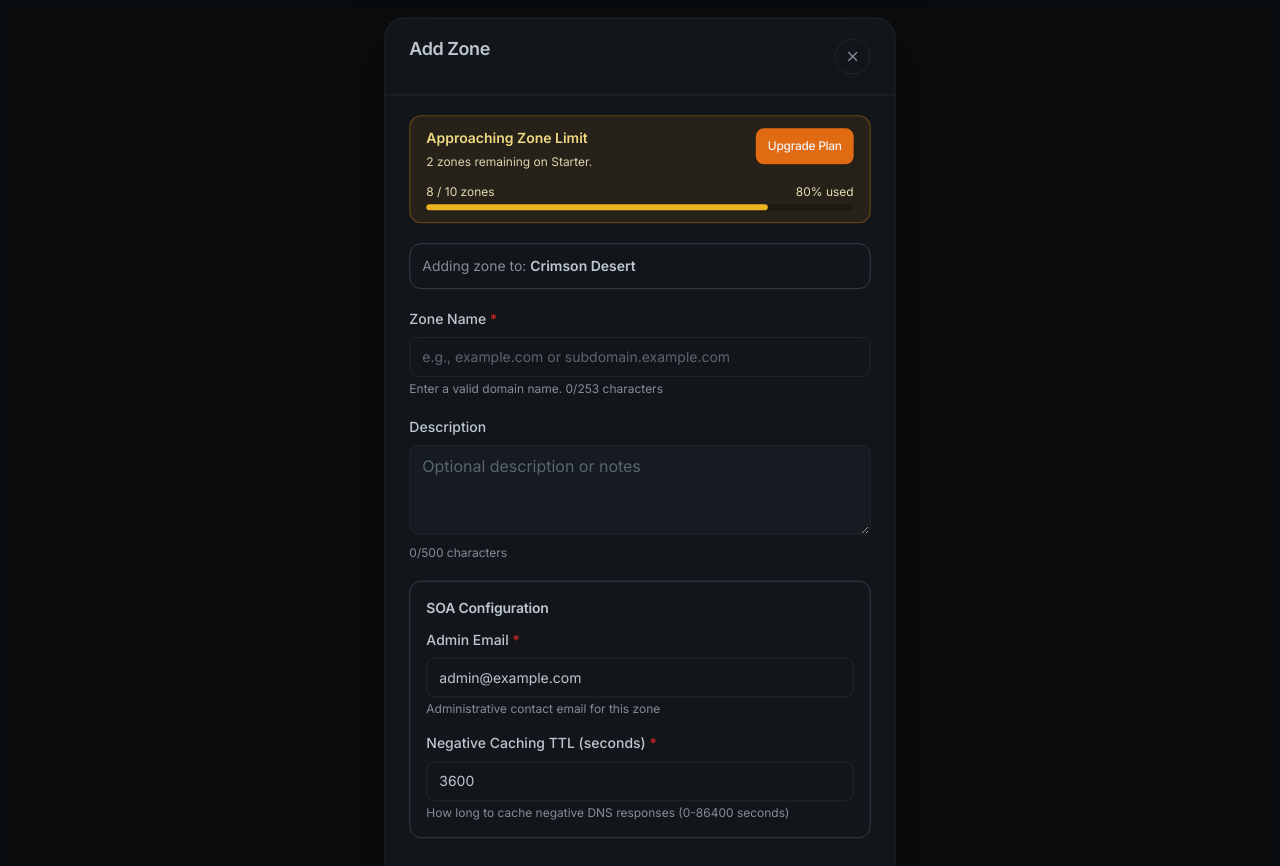
Scenario: AddZoneModal › shows near-limit callout and keeps save enabled with valid name
Check: the text "Approaching Zone Limit" is shown, box [426,129,588,146]
Check: the text "8 / 10 zones" is shown, box [426,184,495,200]
Type "example.com" into the field labelled "Zone Name *". click: point(640, 356)
box: [409,336,871,376]
(page scrolled)
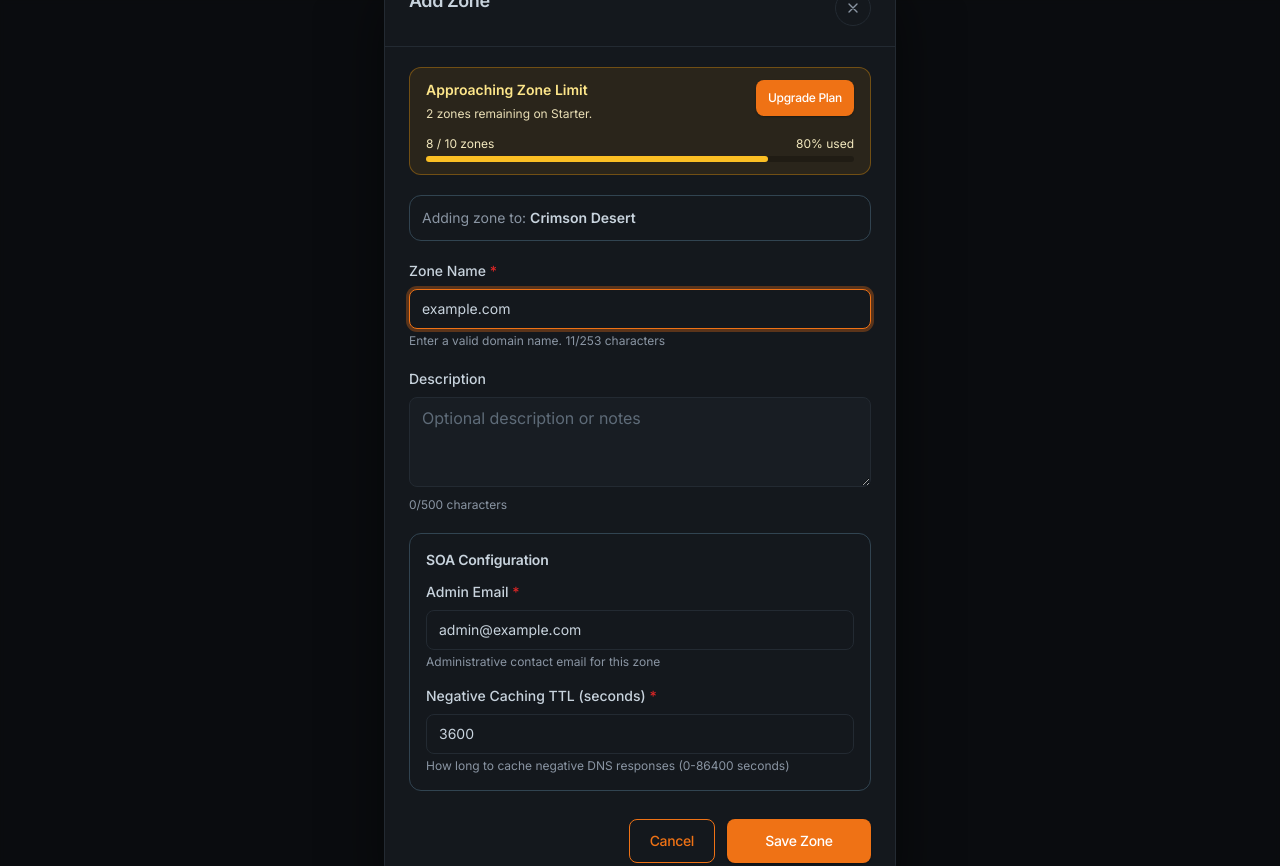
Check: the button "Save Zone" is enabled, box [727,818,871,862]
